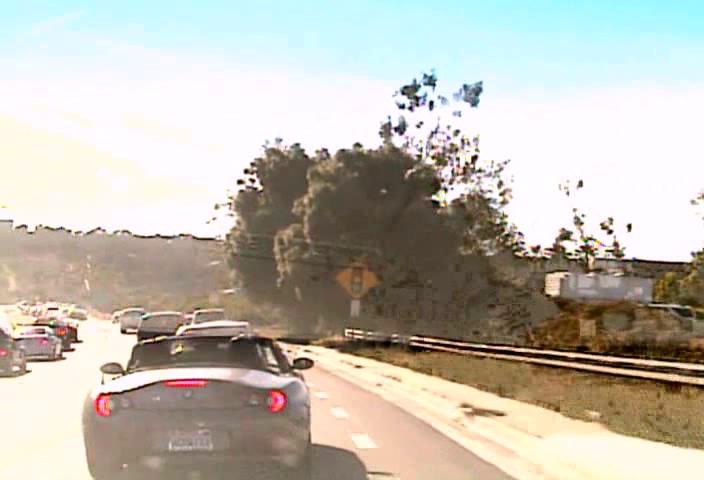signalAhead: (334, 256, 380, 298)
